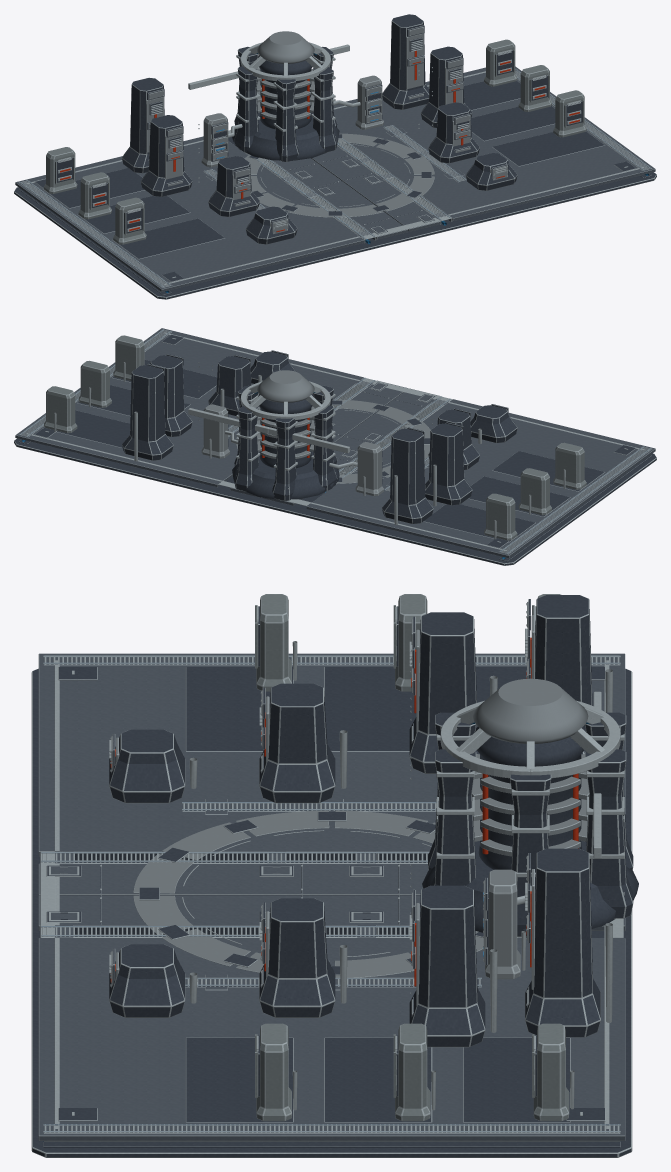
The model's file is CustodianCore.fbx.
3 renders of one model, top to bottom at view 1: azimuth 30°, elevation 25°; view 2: azimuth 150°, elevation 25°; view 3: azimuth 270°, elevation 25°, orthographic. The views are drawn at different scales.
Visible parts, largest first — view 1: CH_CustodianCore_refined_floor_-2_0, CH_CustodianCore_refined_floor_1_0, CH_CustodianCore_foundation_0_0, CH_CustodianCore_containment_core_0_2, CH_CustodianCore_core_service_2_-1, CH_CustodianCore_core_service_-3_-1, CH_CustodianCore_core_service_2_0, CH_CustodianCore_refined_floor_0_0, CH_CustodianCore_containment_architecture_1_2, CH_CustodianCore_refined_floor_-1_0, CH_CustodianCore_containment_core_-1_2, CH_CustodianCore_core_service_-3_0 (+30 smaller); view 2: CH_CustodianCore_refined_floor_-2_0, CH_CustodianCore_refined_floor_1_0, CH_CustodianCore_containment_core_0_2, CH_CustodianCore_foundation_0_0, CH_CustodianCore_containment_core_-1_2, CH_CustodianCore_containment_architecture_1_2, CH_CustodianCore_containment_architecture_-2_2, CH_CustodianCore_containment_architecture_-2_1, CH_CustodianCore_core_service_-3_2, CH_CustodianCore_core_service_2_2, CH_CustodianCore_core_service_-3_-1, CH_CustodianCore_core_service_-3_0 (+25 smaller); view 3: CH_CustodianCore_refined_floor_1_0, CH_CustodianCore_refined_floor_-2_0, CH_CustodianCore_containment_core_0_2, CH_CustodianCore_foundation_0_0, CH_CustodianCore_containment_architecture_1_2, CH_CustodianCore_refined_floor_-1_0, CH_CustodianCore_containment_architecture_1_1, CH_CustodianCore_core_service_2_-1, CH_CustodianCore_core_service_-3_-1, CH_CustodianCore_core_service_2_0, CH_CustodianCore_core_service_2_2, CH_CustodianCore_core_service_-3_0 (+34 smaller).
Boxes of the visible parts, bbox=[...] form: CH_CustodianCore_refined_floor_-2_0: bbox=[15, 136, 364, 291]; CH_CustodianCore_refined_floor_1_0: bbox=[333, 66, 655, 220]; CH_CustodianCore_foundation_0_0: bbox=[14, 137, 656, 299]; CH_CustodianCore_containment_core_0_2: bbox=[232, 31, 339, 160]; CH_CustodianCore_core_service_2_-1: bbox=[492, 90, 604, 166]; CH_CustodianCore_core_service_-3_-1: bbox=[112, 197, 224, 259]; CH_CustodianCore_core_service_2_0: bbox=[471, 65, 555, 141]; CH_CustodianCore_refined_floor_0_0: bbox=[311, 138, 440, 231]; CH_CustodianCore_containment_architecture_1_2: bbox=[382, 14, 429, 109]; CH_CustodianCore_refined_floor_-1_0: bbox=[252, 158, 408, 239]; CH_CustodianCore_containment_core_-1_2: bbox=[234, 42, 330, 152]; CH_CustodianCore_core_service_-3_0: bbox=[77, 172, 190, 233]; CH_CustodianCore_refined_floor_-2_0: bbox=[306, 399, 655, 558]; CH_CustodianCore_refined_floor_1_0: bbox=[15, 328, 364, 487]; CH_CustodianCore_containment_core_0_2: bbox=[232, 370, 339, 499]; CH_CustodianCore_foundation_0_0: bbox=[14, 385, 656, 565]; CH_CustodianCore_containment_core_-1_2: bbox=[240, 381, 337, 500]; CH_CustodianCore_containment_architecture_1_2: bbox=[122, 365, 173, 467]; CH_CustodianCore_containment_architecture_-2_2: bbox=[382, 428, 433, 530]; CH_CustodianCore_containment_architecture_-2_1: bbox=[425, 423, 472, 506]; CH_CustodianCore_core_service_-3_2: bbox=[423, 493, 535, 542]; CH_CustodianCore_core_service_2_2: bbox=[43, 386, 130, 447]; CH_CustodianCore_core_service_-3_-1: bbox=[492, 442, 604, 491]; CH_CustodianCore_core_service_-3_0: bbox=[468, 468, 570, 516]; CH_CustodianCore_refined_floor_1_0: bbox=[38, 938, 625, 1140]; CH_CustodianCore_refined_floor_-2_0: bbox=[38, 653, 625, 856]; CH_CustodianCore_containment_core_0_2: bbox=[422, 678, 638, 937]; CH_CustodianCore_foundation_0_0: bbox=[31, 668, 632, 1157]; CH_CustodianCore_containment_architecture_1_2: bbox=[525, 848, 612, 1037]; CH_CustodianCore_refined_floor_-1_0: bbox=[38, 812, 435, 895]; CH_CustodianCore_containment_architecture_1_1: bbox=[409, 885, 497, 1047]; CH_CustodianCore_core_service_2_-1: bbox=[185, 1023, 297, 1122]; CH_CustodianCore_core_service_-3_-1: bbox=[185, 594, 297, 751]; CH_CustodianCore_core_service_2_0: bbox=[324, 1023, 432, 1122]; CH_CustodianCore_core_service_2_2: bbox=[463, 1023, 574, 1122]; CH_CustodianCore_core_service_-3_0: bbox=[324, 594, 427, 751].
Bounding box in the file's own units: 50 × 10.6 × 26.3.
